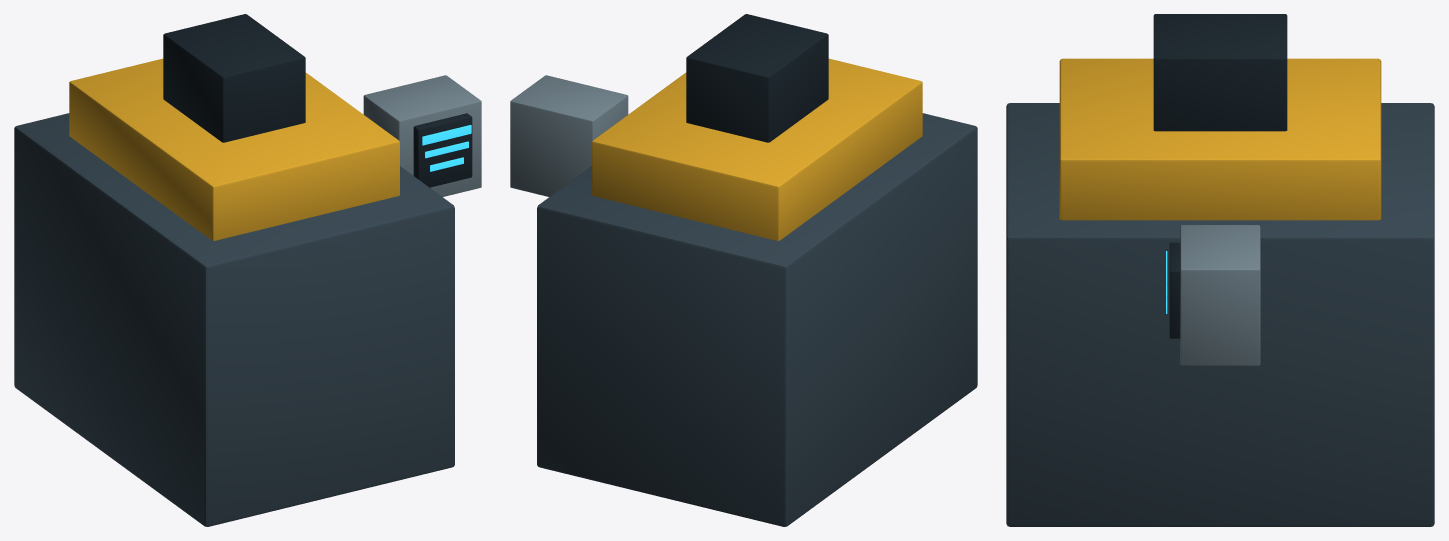
Rendered from bundler.glb.
3 renders of one model, left to right at view 1: azimuth 30°, elevation 25°; view 2: azimuth 150°, elevation 25°; view 3: azimuth 270°, elevation 25°, orthographic. The views are drawn at different scales.
Parts seen in each view (by area): view 1: Asset_bundler; view 2: Asset_bundler; view 3: Asset_bundler.
Part boxes in pixels (<box>): Asset_bundler: <box>14,14,481,526</box>; Asset_bundler: <box>510,14,977,526</box>; Asset_bundler: <box>1006,14,1434,526</box>.
Bounding box in the file's own units: 1.7 × 1.75 × 1.6.
